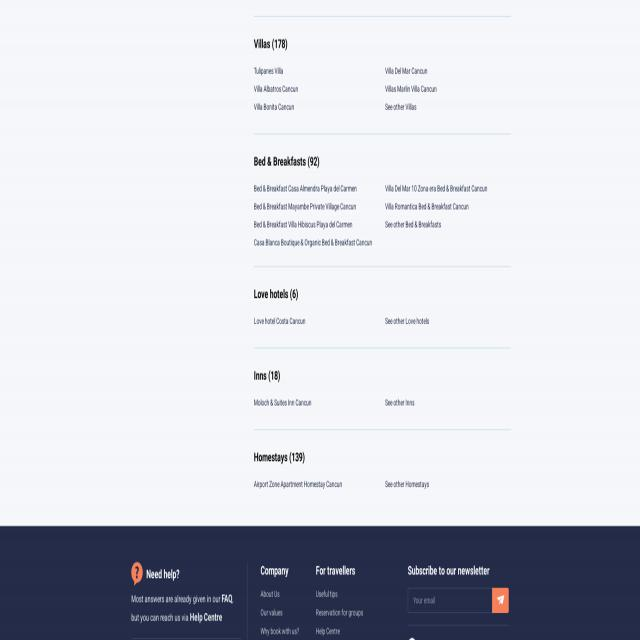button: (492, 588, 509, 612), (131, 562, 143, 586)
field: (408, 588, 492, 613)
